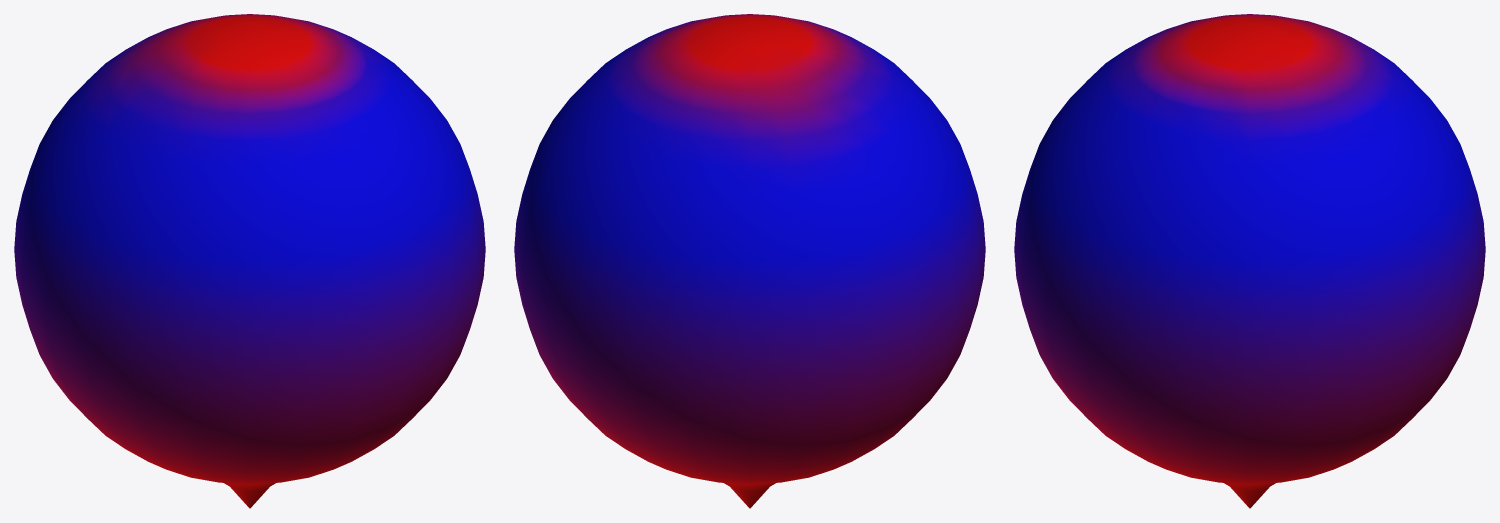
The model's file is ballon_01.fbx.
3 renders of one model, left to right at view 1: azimuth 30°, elevation 25°; view 2: azimuth 150°, elevation 25°; view 3: azimuth 270°, elevation 25°, orthographic.
Visible parts, largest first — view 1: Ballon_Mesh; view 2: Ballon_Mesh; view 3: Ballon_Mesh.
Boxes of the visible parts, x1,y1,x2,y2 form: Ballon_Mesh: (14,14,485,508); Ballon_Mesh: (514,14,985,508); Ballon_Mesh: (1014,14,1485,508).
Size of the model in its own units: 100 by 111 by 100.
